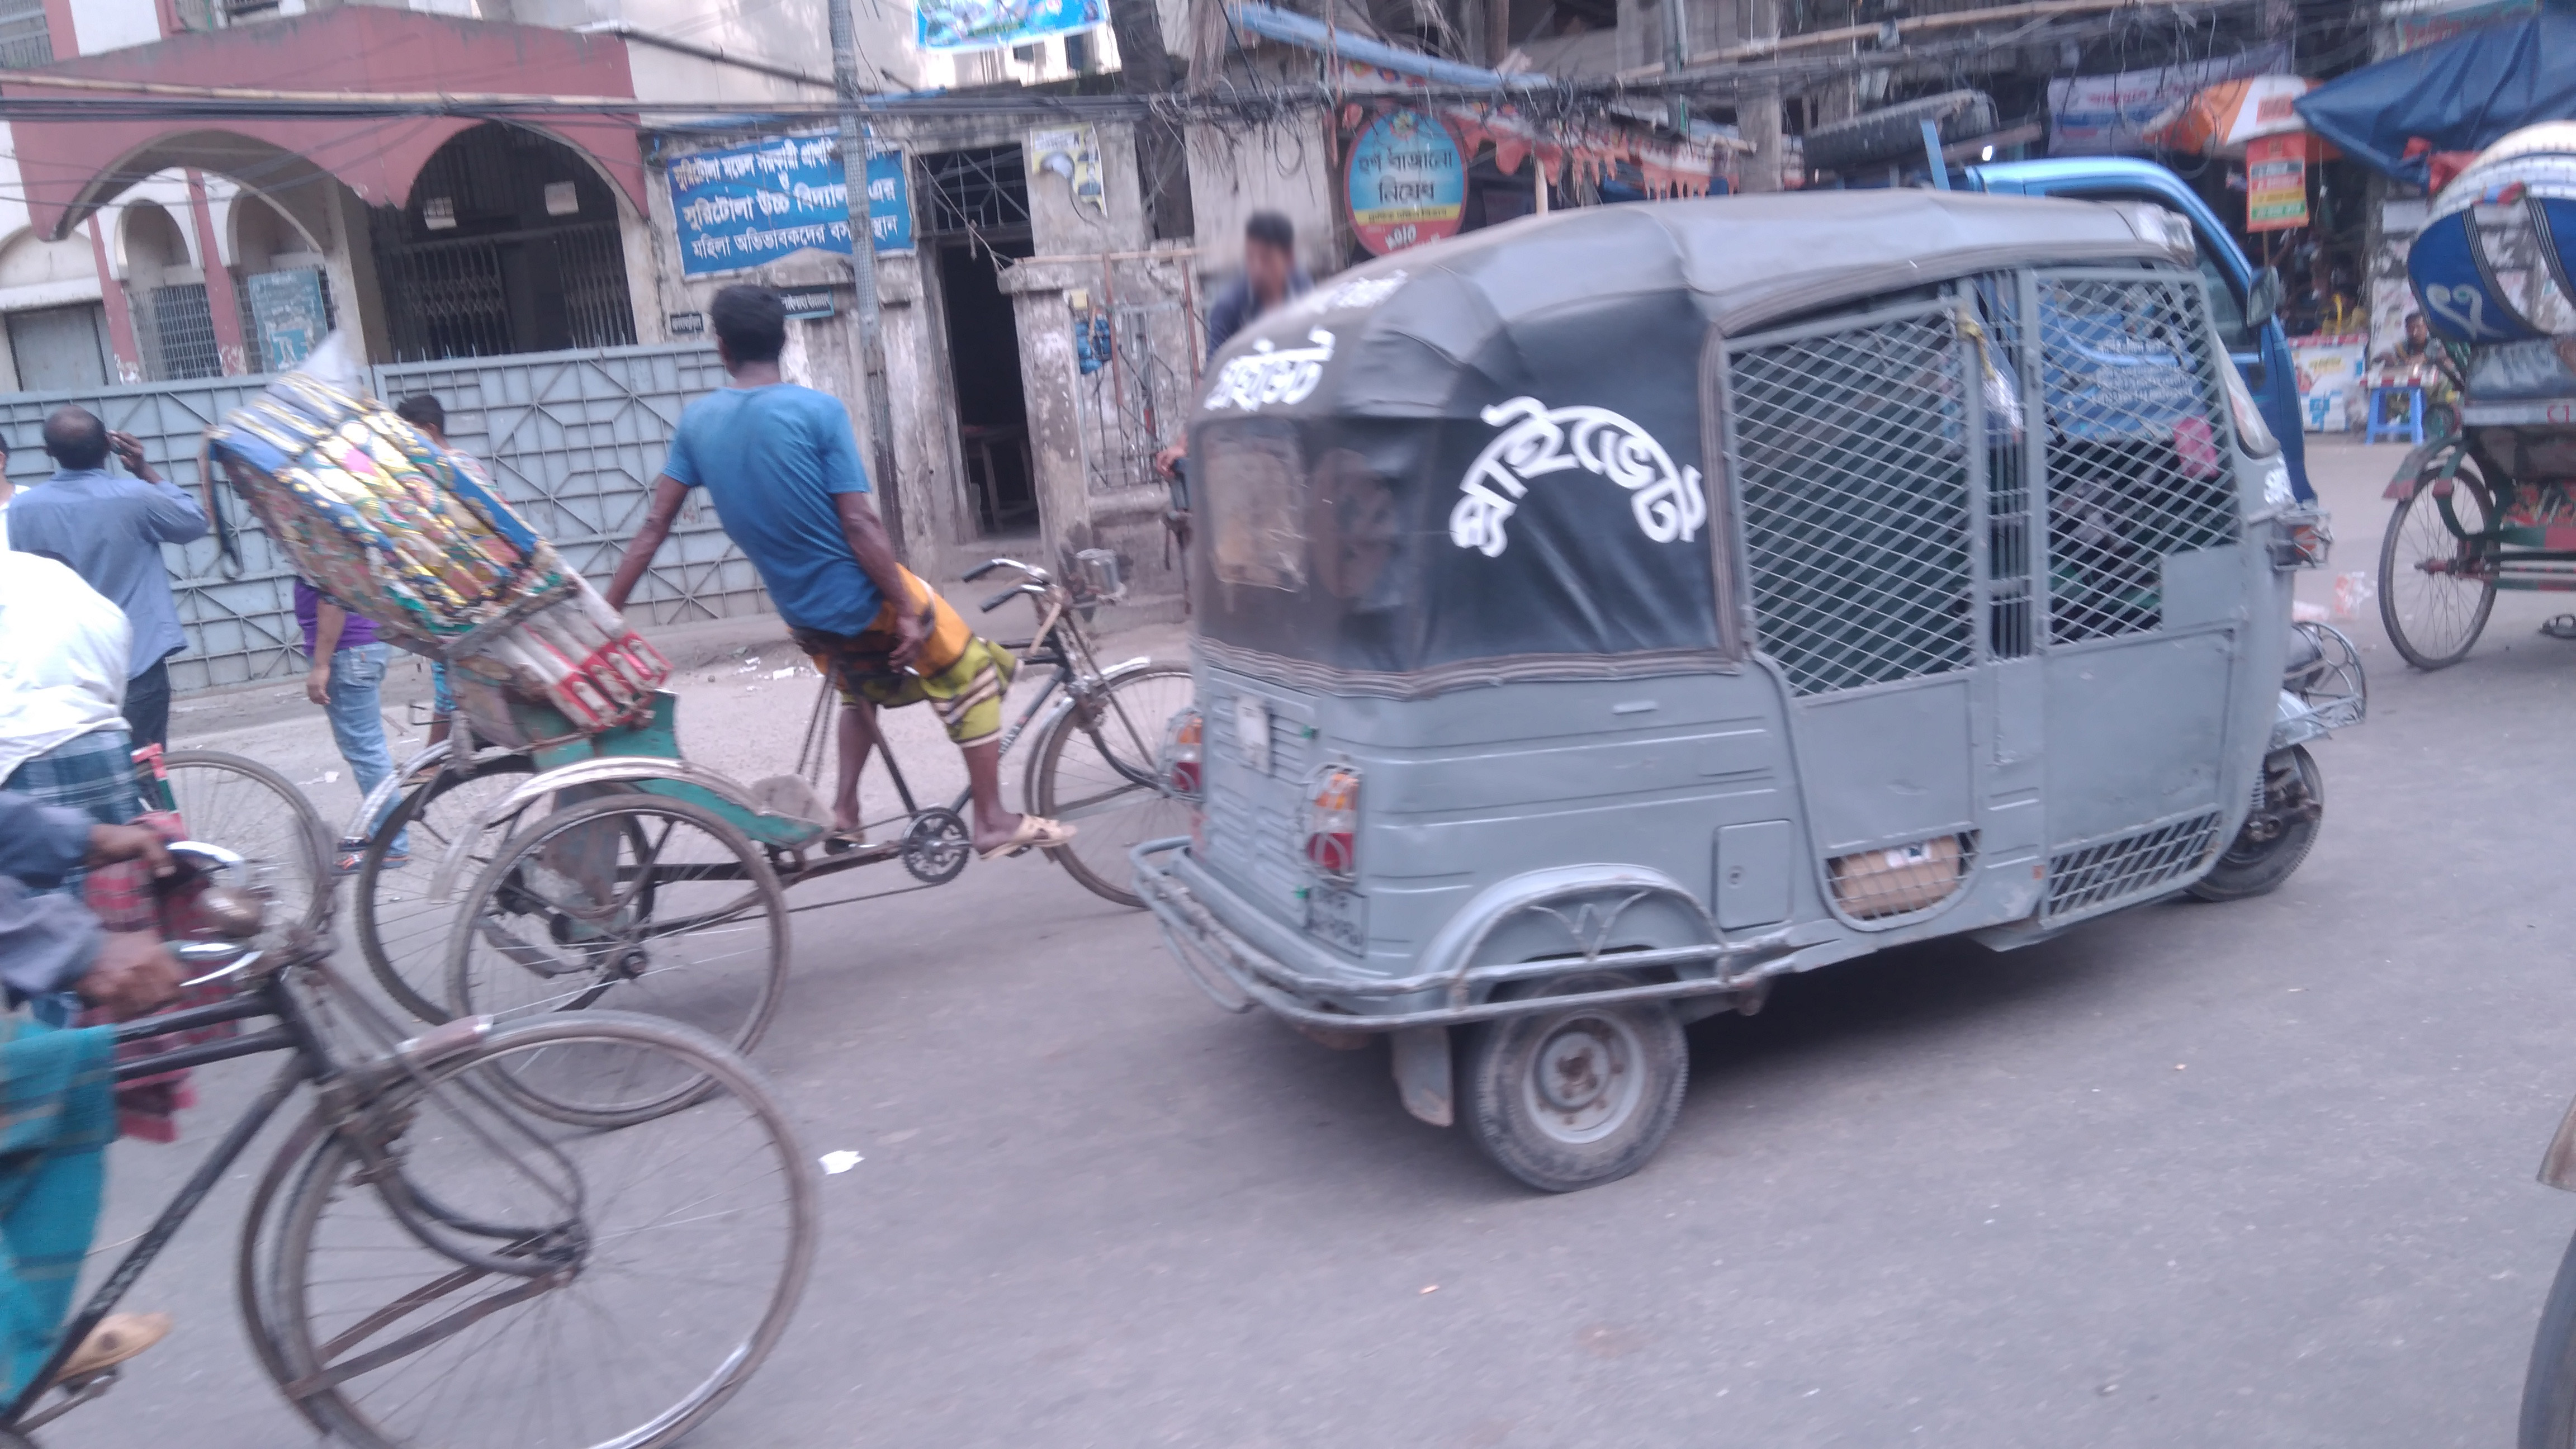cng: (1131, 159, 2367, 1184)
rickshaw: (205, 333, 1295, 1143), (2367, 62, 2576, 702)
